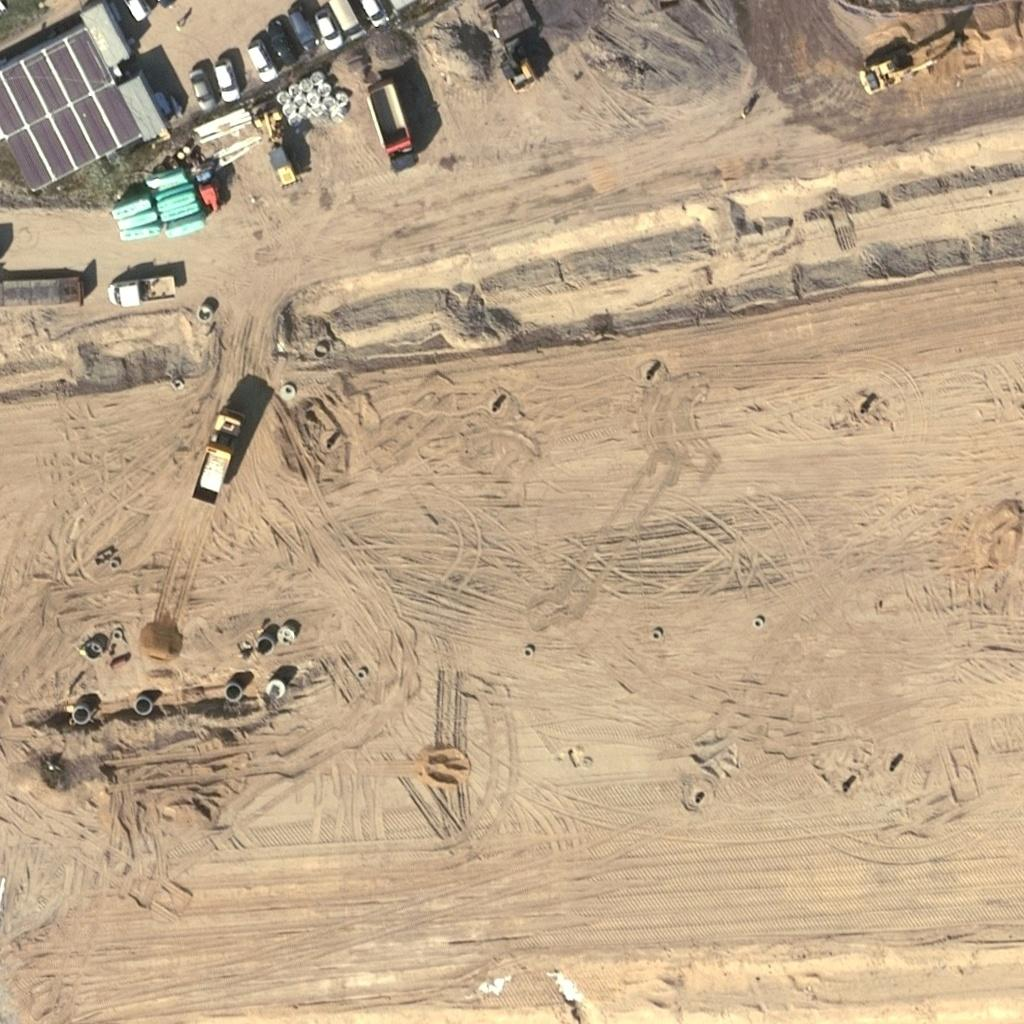ciezarowka: (188, 403, 251, 512)
koparka: (858, 32, 971, 100), (478, 0, 544, 95)
samochod_osobowy: (105, 274, 179, 312), (242, 37, 283, 88), (285, 5, 324, 58), (184, 64, 221, 119), (327, 0, 371, 46), (211, 54, 244, 108), (268, 24, 304, 73), (314, 5, 347, 55), (358, 0, 394, 35)
